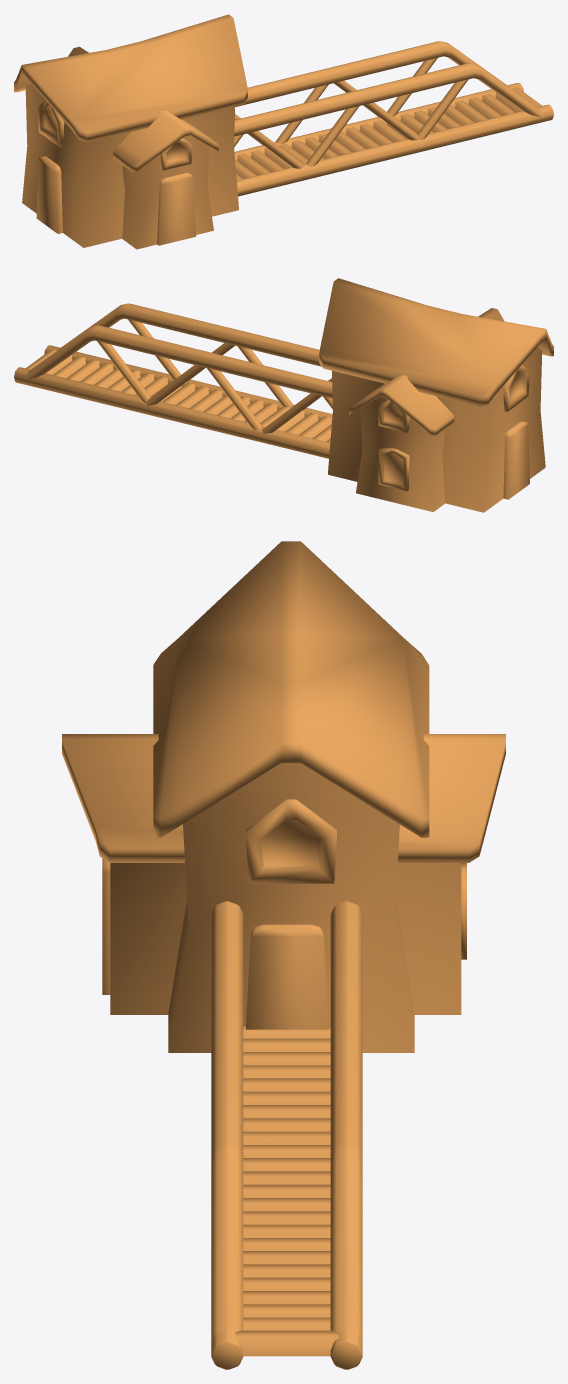
Rendered from dock_gbread.fbx.
The picture shows the model from 3 angles, top to bottom: view 1: azimuth 30°, elevation 25°; view 2: azimuth 150°, elevation 25°; view 3: azimuth 270°, elevation 25°; orthographic projection. The views are drawn at different scales.
Visible parts, largest first — view 1: dock_gbread; view 2: dock_gbread; view 3: dock_gbread.
Part boxes in pixels (x1,y1,x2,y2): dock_gbread: [14, 14, 553, 249]; dock_gbread: [14, 278, 553, 512]; dock_gbread: [62, 541, 505, 1369].
Size of the model in its own units: 13241 by 4122 by 4989.
